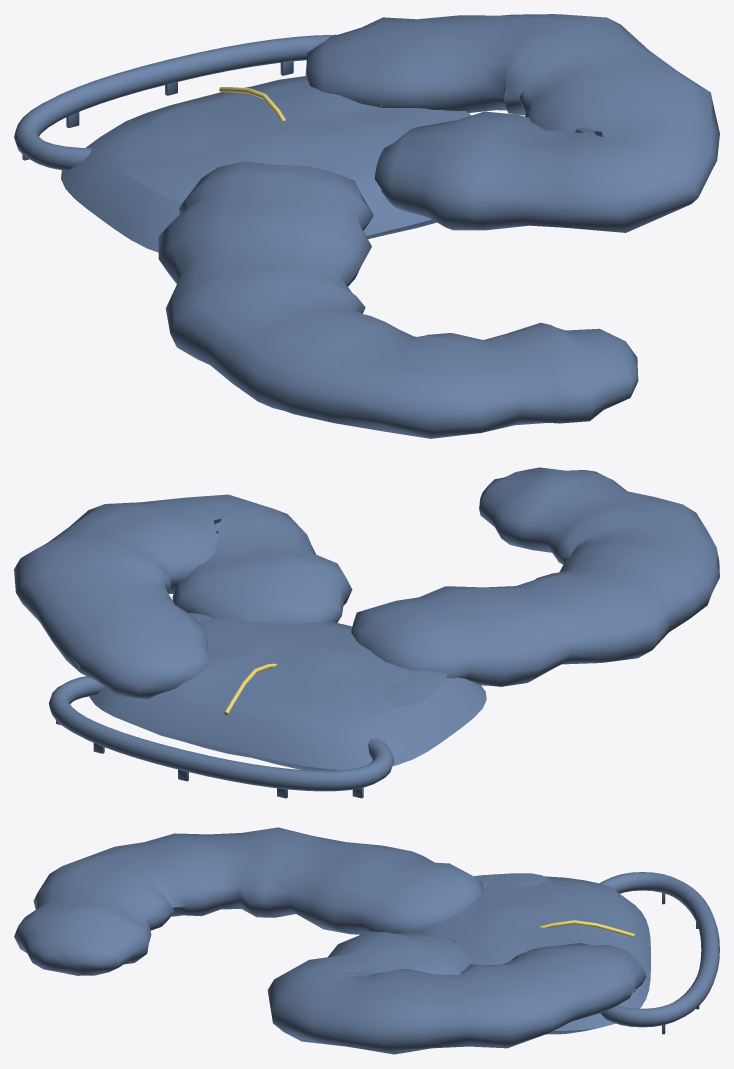
Rendered from textiles_jeans_crumpled.fbx.
3 renders of one model, top to bottom at view 1: azimuth 30°, elevation 25°; view 2: azimuth 150°, elevation 25°; view 3: azimuth 270°, elevation 25°, orthographic. The views are drawn at different scales.
Visible parts, largest first — view 1: textiles_jeans_crumpled; view 2: textiles_jeans_crumpled; view 3: textiles_jeans_crumpled.
Boxes of the visible parts, <box> form: textiles_jeans_crumpled: <box>14,14,719,438</box>; textiles_jeans_crumpled: <box>14,467,719,798</box>; textiles_jeans_crumpled: <box>14,827,719,1054</box>.
Bounding box in the file's own units: 0.633 × 0.1259 × 0.8287.
